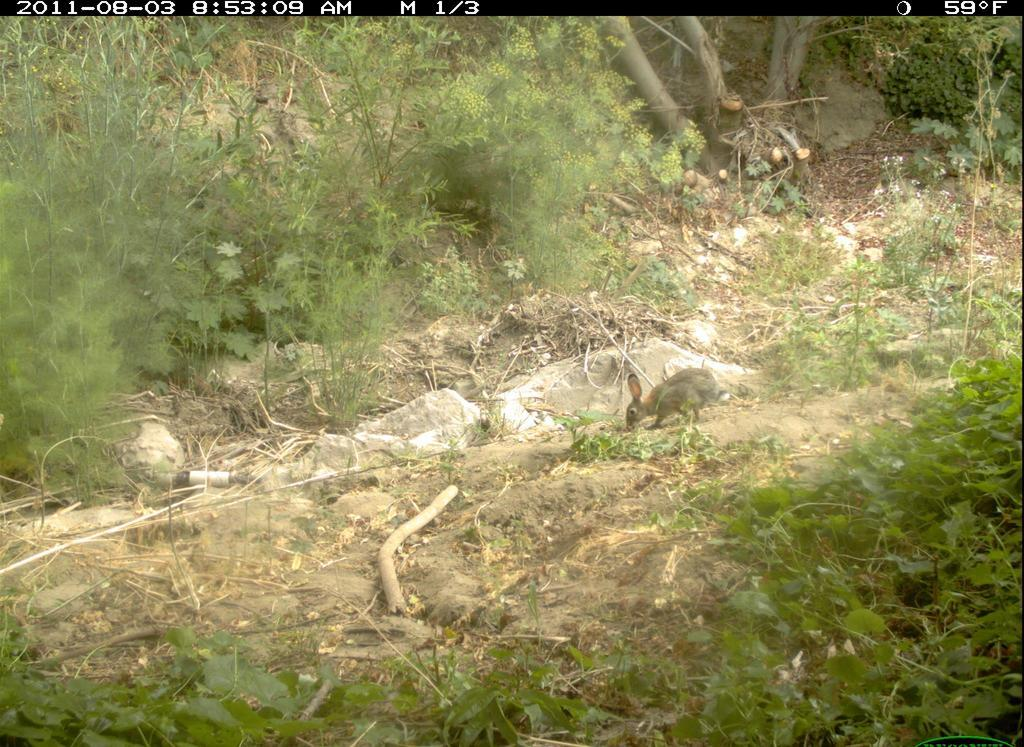rabbit: (614, 359, 728, 438)
